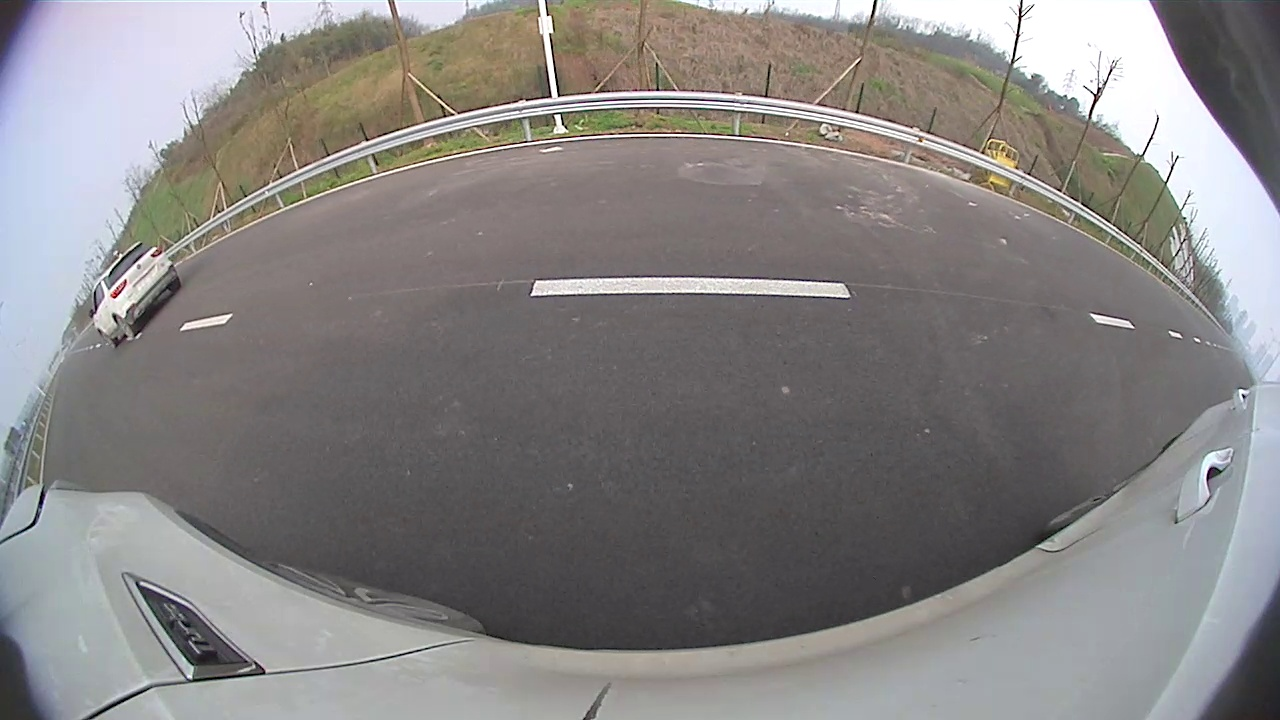car: (89, 240, 181, 347)
rear: (114, 318, 137, 341)
